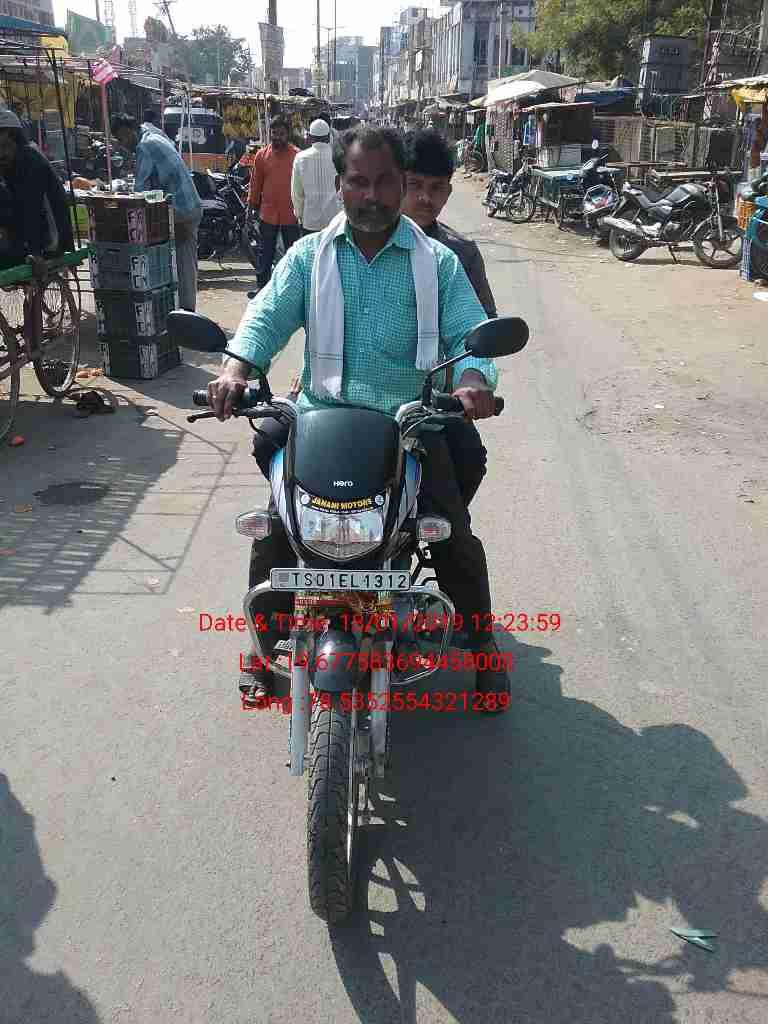plate: (265, 564, 419, 594)
